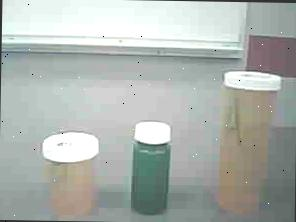Bottle A: (204, 64, 288, 221)
Bottle B: (37, 127, 108, 221)
Bottle C: (126, 118, 179, 220)
